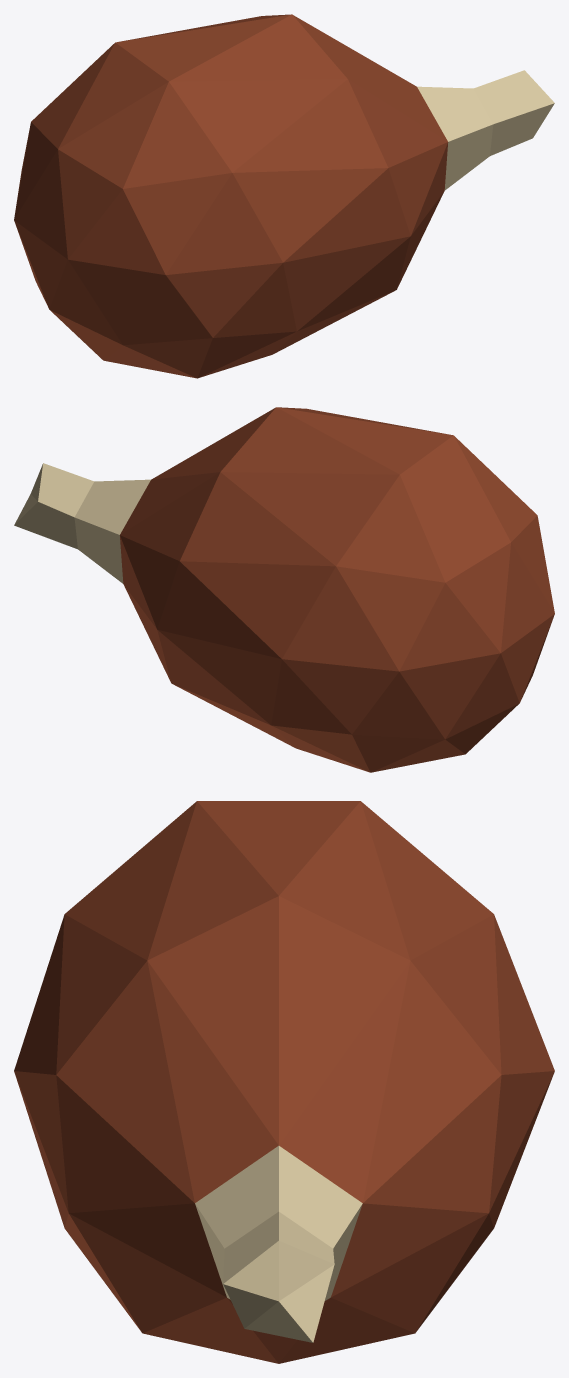
File: Food.fbx
The picture shows the model from 3 angles, top to bottom: view 1: azimuth 30°, elevation 25°; view 2: azimuth 150°, elevation 25°; view 3: azimuth 270°, elevation 25°; orthographic projection. The views are drawn at different scales.
Visible parts, largest first — view 1: Icosphere; view 2: Icosphere; view 3: Icosphere.
Boxes of the visible parts, x1,y1,x2,y2 form: Icosphere: (14, 14, 554, 378); Icosphere: (14, 407, 554, 772); Icosphere: (14, 801, 554, 1363).
Bounding box in the file's own units: 334 × 209 × 204.
